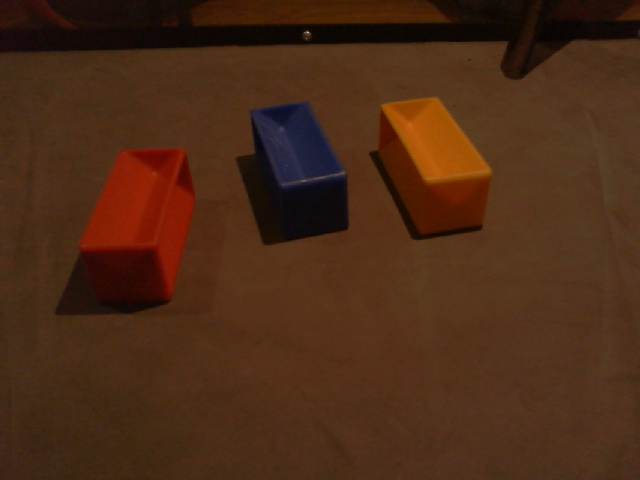BlueSample: (247, 101, 351, 243)
RedSample: (77, 147, 196, 303)
YellowSample: (376, 92, 493, 242)
